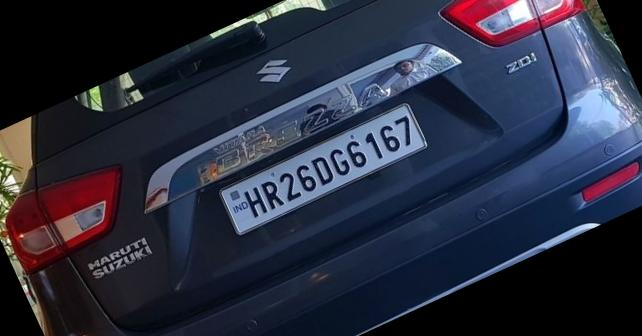plate: (217, 96, 435, 236)
